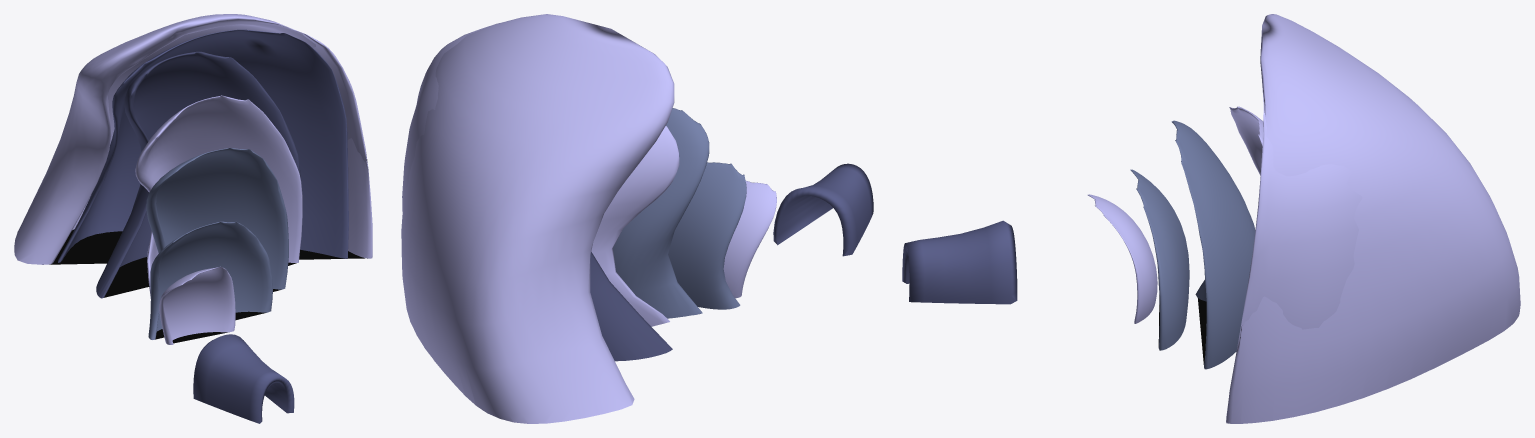
File: bus stop wave.fbx
3 views of the same model, side by side, from view 1: azimuth 30°, elevation 25°; view 2: azimuth 150°, elevation 25°; view 3: azimuth 270°, elevation 25° (orthographic). The views are drawn at different scales.
Parts seen in each view (by area): view 1: bus_stop_waves_uvs; view 2: bus_stop_waves_uvs; view 3: bus_stop_waves_uvs.
Boxes of the visible parts, x1=… form: bus_stop_waves_uvs: x1=14, y1=14, x2=372, y2=423; bus_stop_waves_uvs: x1=401, y1=14, x2=873, y2=423; bus_stop_waves_uvs: x1=902, y1=14, x2=1520, y2=423.
Bounding box in the file's own units: 501 × 446 × 835.
